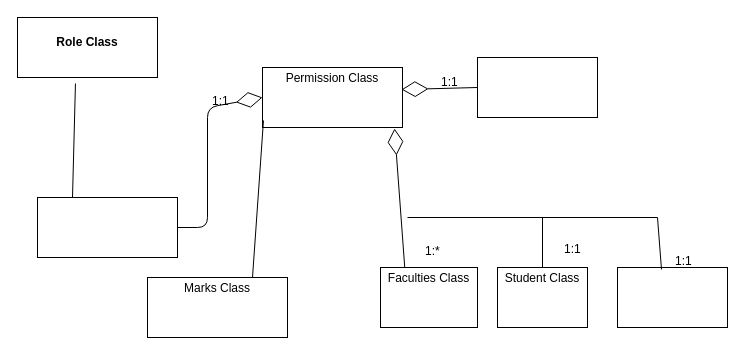
This 745x355 diagram has some shape labels left out. Here are the shapes that lost their labels. From the top down, the box of each, then its label:
(476, 56, 598, 118): Paper Class
(36, 196, 178, 258): User Class
(616, 266, 728, 328): Examination Class
